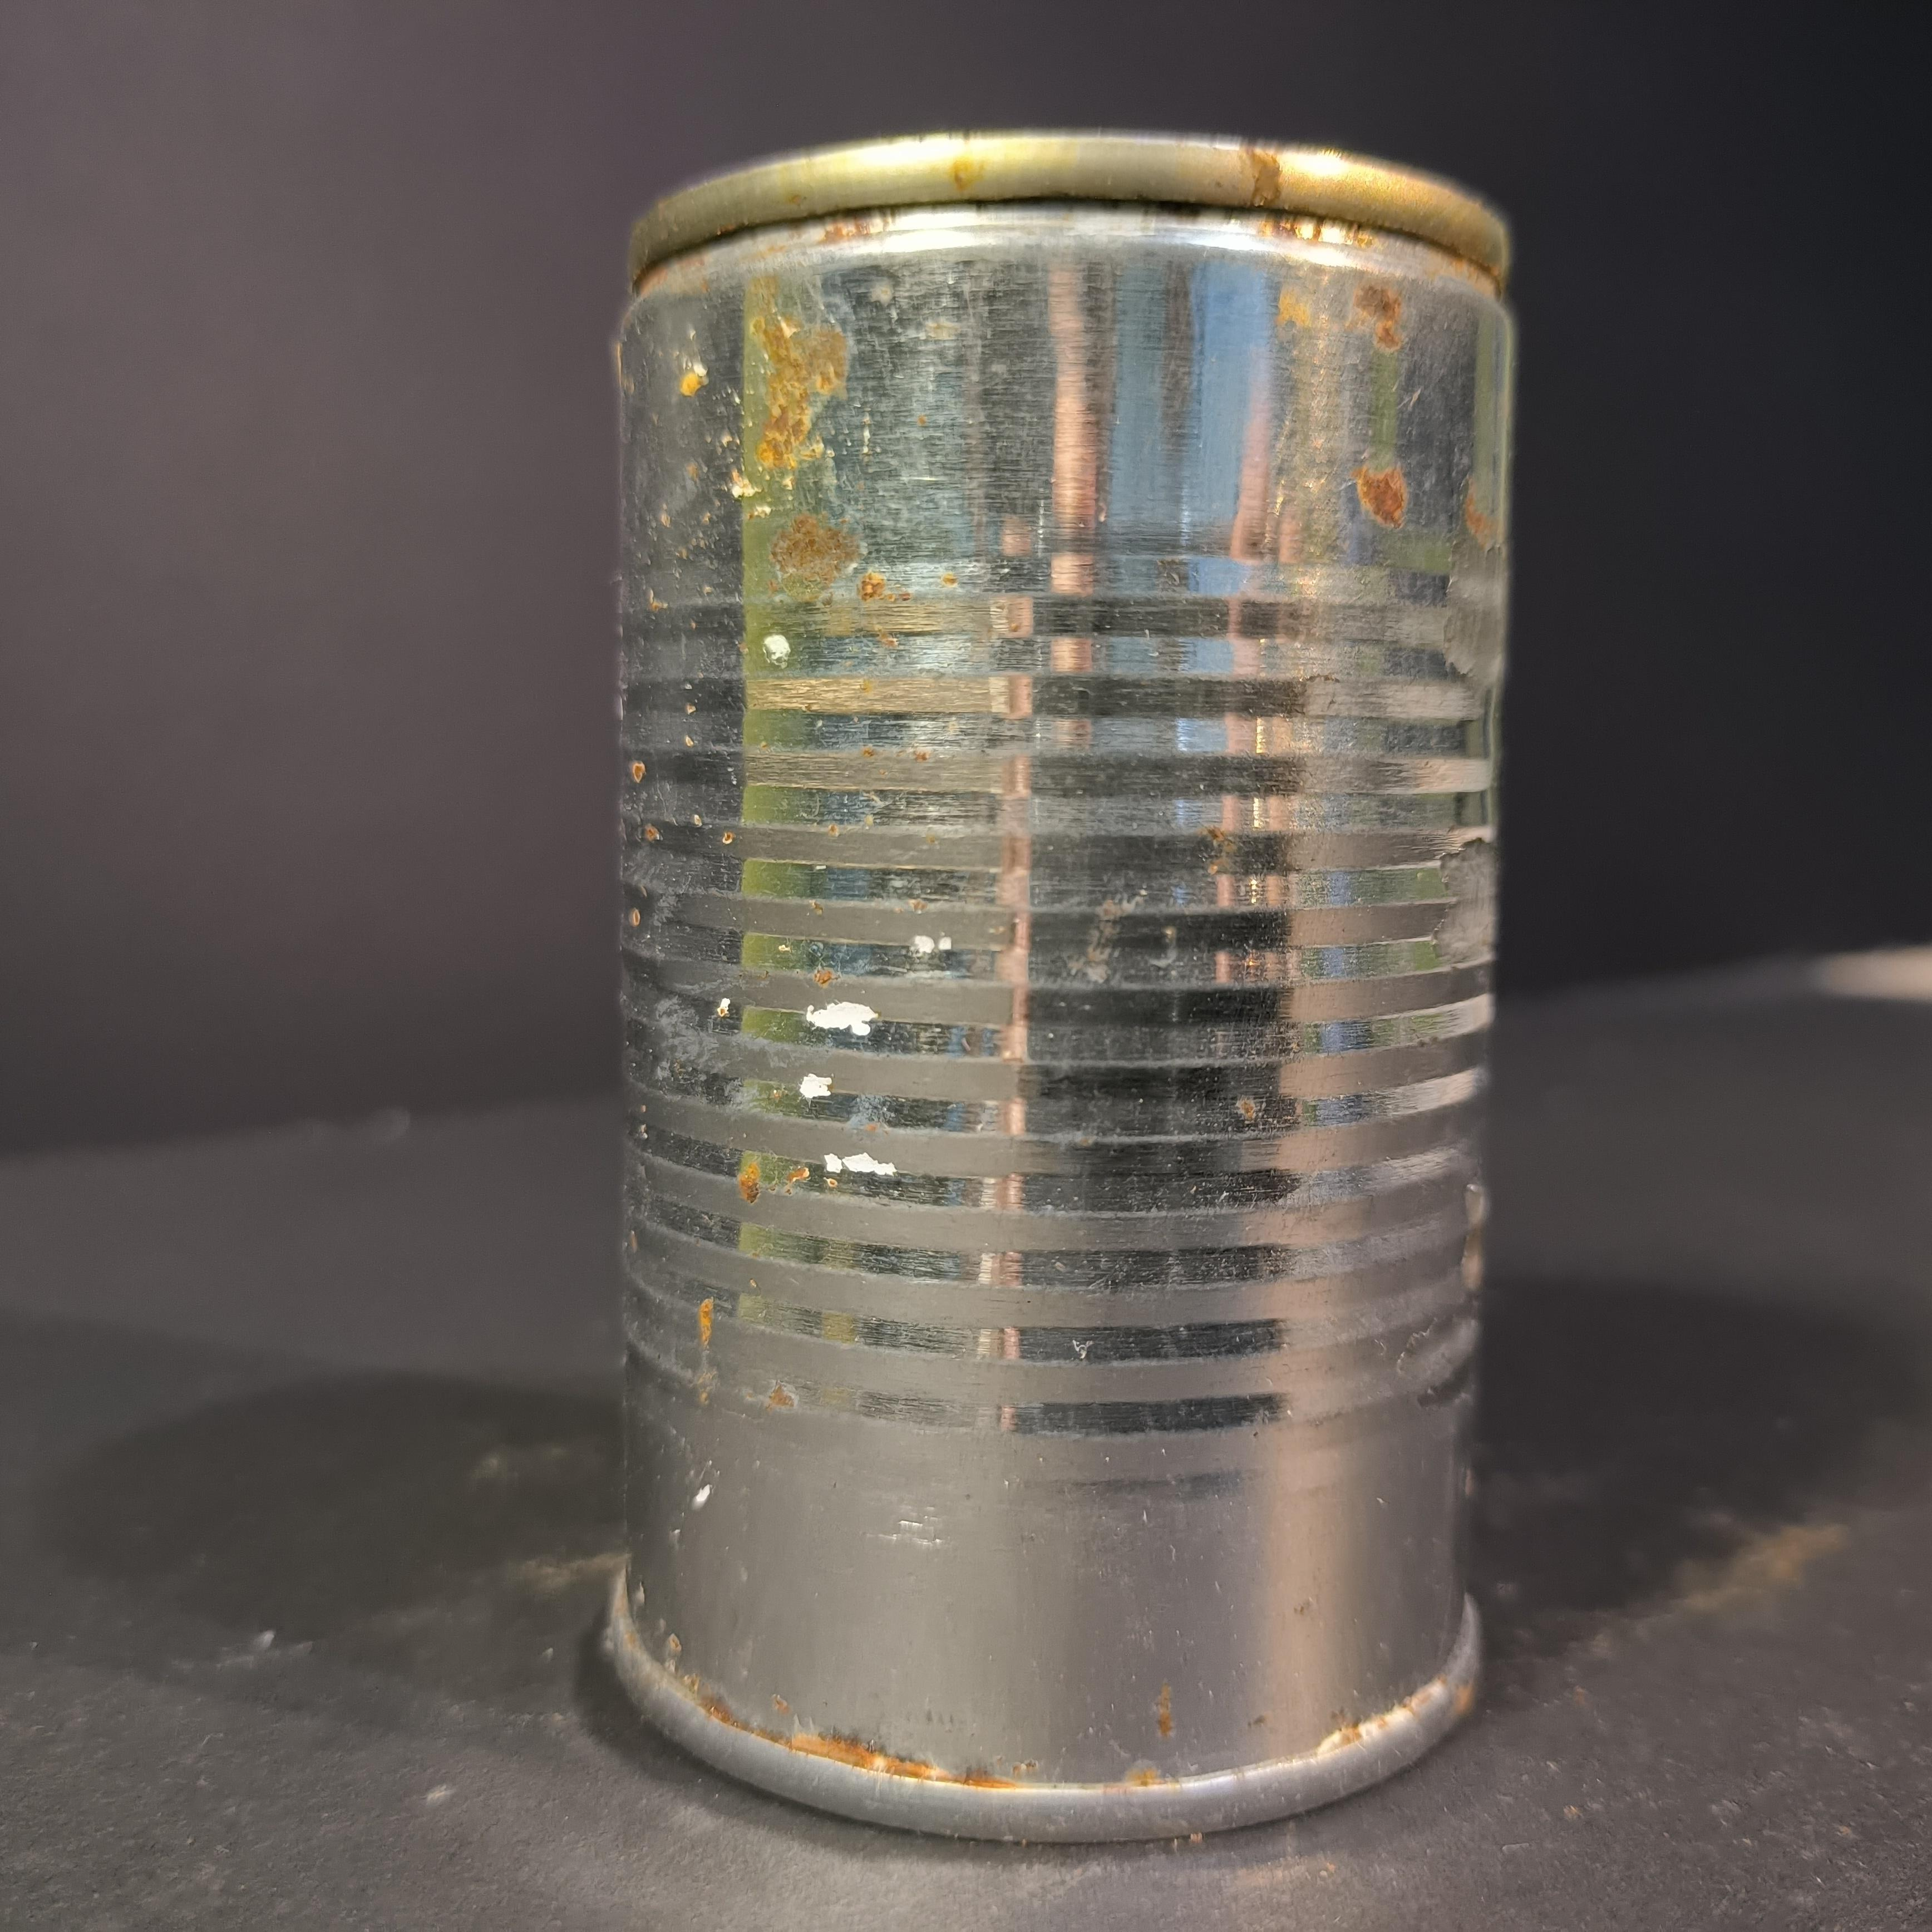Rusted: (596, 117, 1522, 1845)
